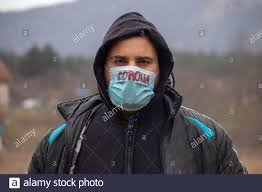mask: (90, 14, 173, 119)
